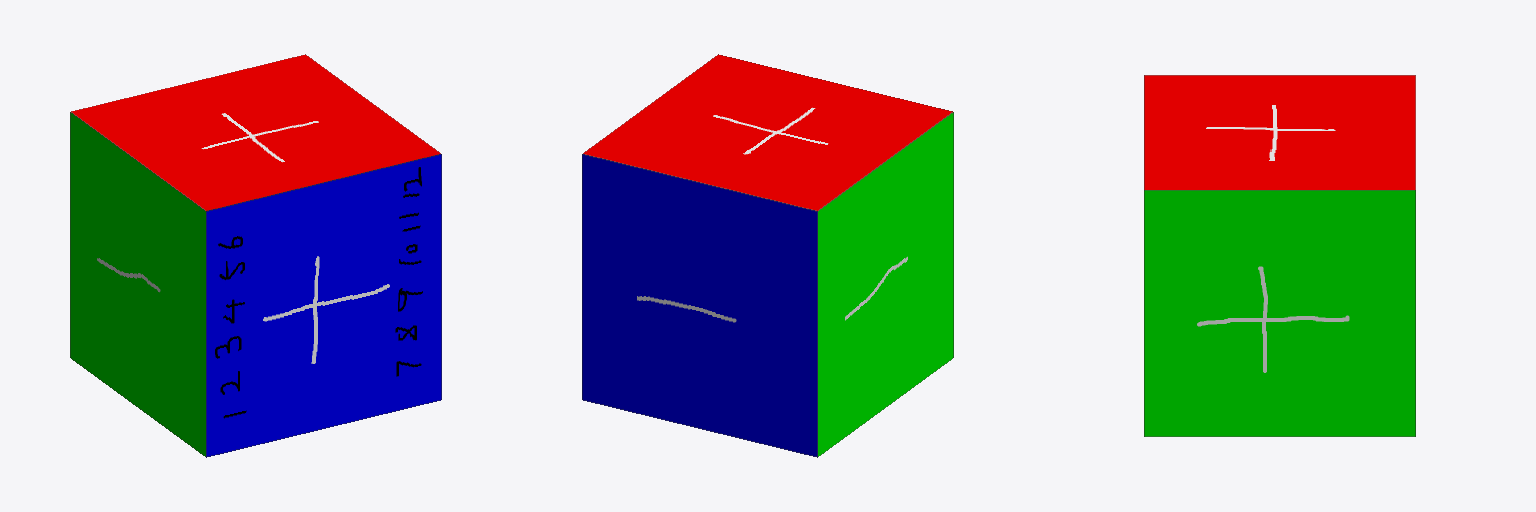
3 views of the same model, side by side, from view 1: azimuth 30°, elevation 25°; view 2: azimuth 150°, elevation 25°; view 3: azimuth 270°, elevation 25° (orthographic).
Parts seen in each view (by area): view 1: Cube; view 2: Cube; view 3: Cube.
Boxes of the visible parts, <box> form: Cube: <box>70,54,441,457</box>; Cube: <box>582,54,953,457</box>; Cube: <box>1144,75,1415,436</box>.
Bounding box in the file's own units: 10 × 10 × 10.
1 materials, 1 textured.